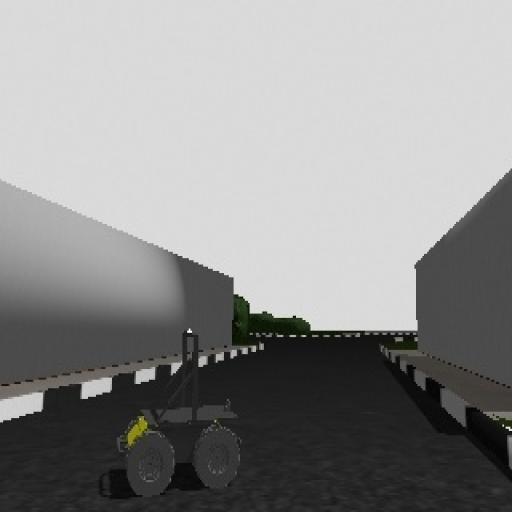huskya200: (95, 328, 263, 500)
